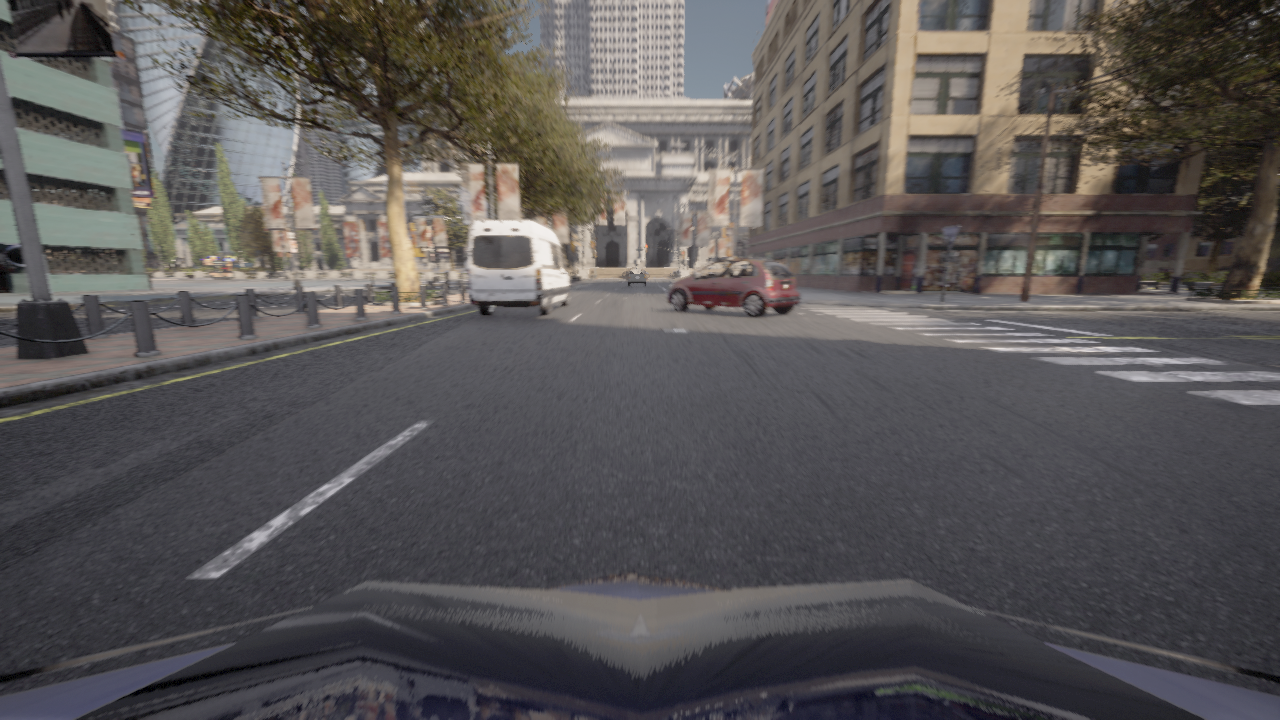cyclist: (0, 569, 1279, 719), (467, 219, 571, 315), (666, 258, 800, 317), (627, 268, 647, 286)
